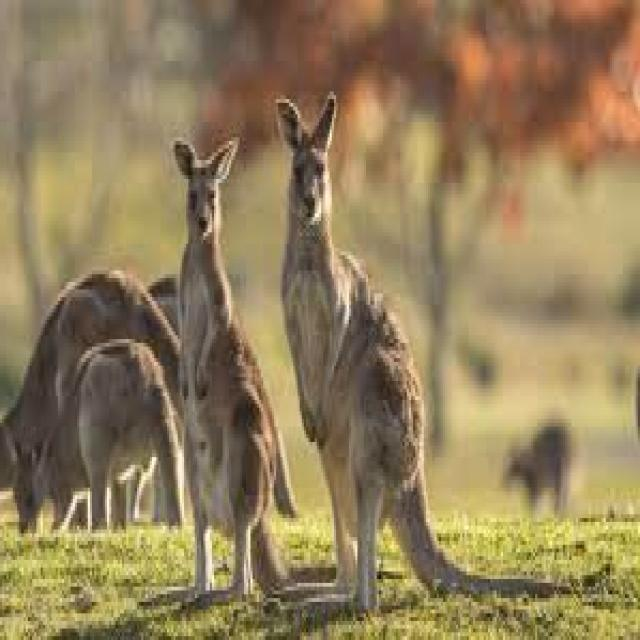kangaroo: (278, 91, 554, 610), (167, 137, 298, 602), (2, 343, 182, 530)
